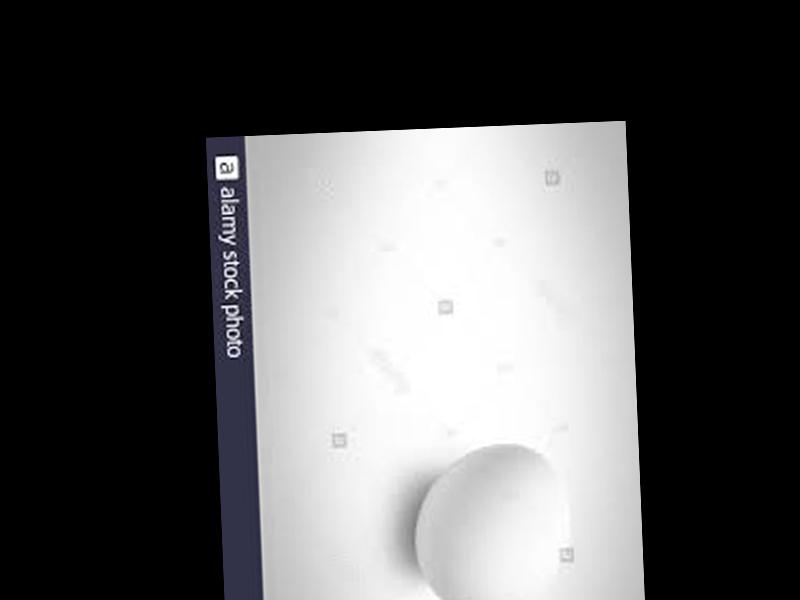Eggs: (410, 443, 571, 600)
